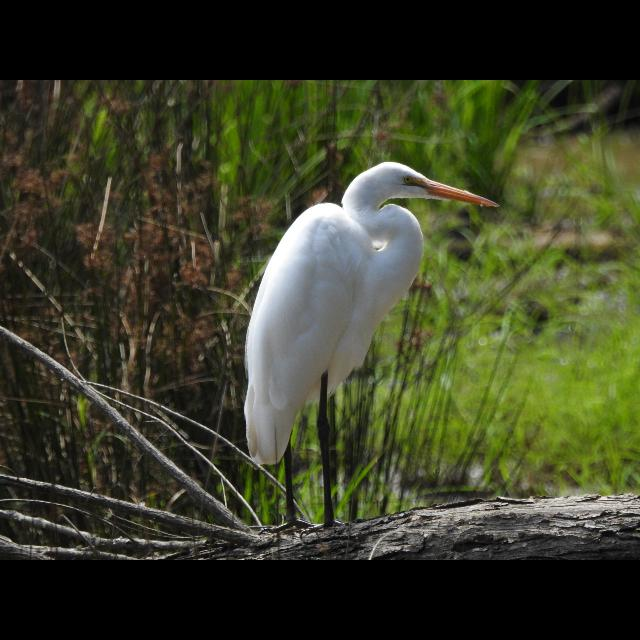egret: (238, 155, 502, 533)
